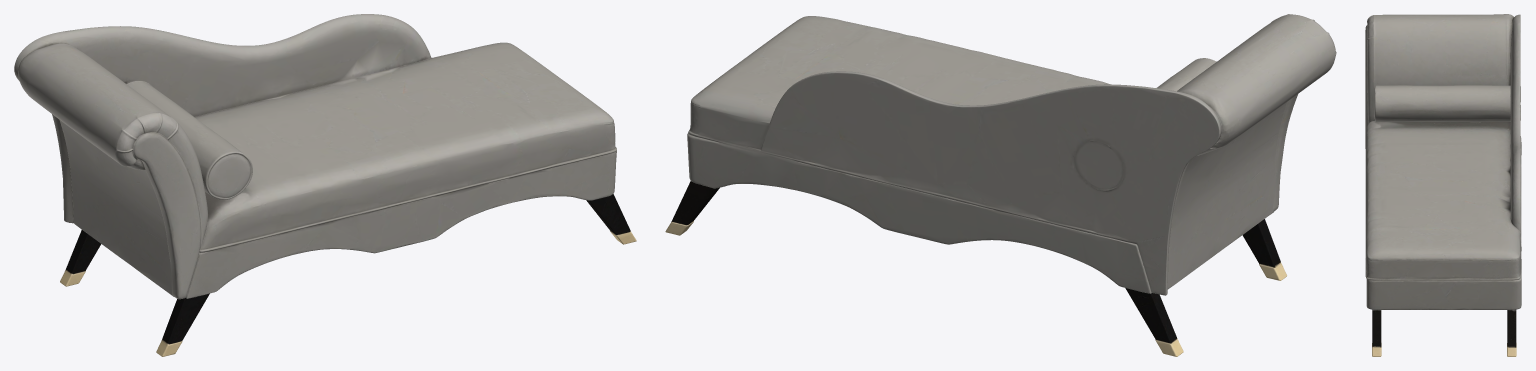
Rendered from wood-art-city-2-seater-rosewood-chaise-lounge-couch-sofa-wit.glb.
3 renders of one model, left to right at view 1: azimuth 30°, elevation 25°; view 2: azimuth 150°, elevation 25°; view 3: azimuth 270°, elevation 25°, orthographic. The views are drawn at different scales.
Bounding box in the file's own units: 1.9 × 0.8654 × 0.7046.
Materials: 1 (1 with a texture image).
